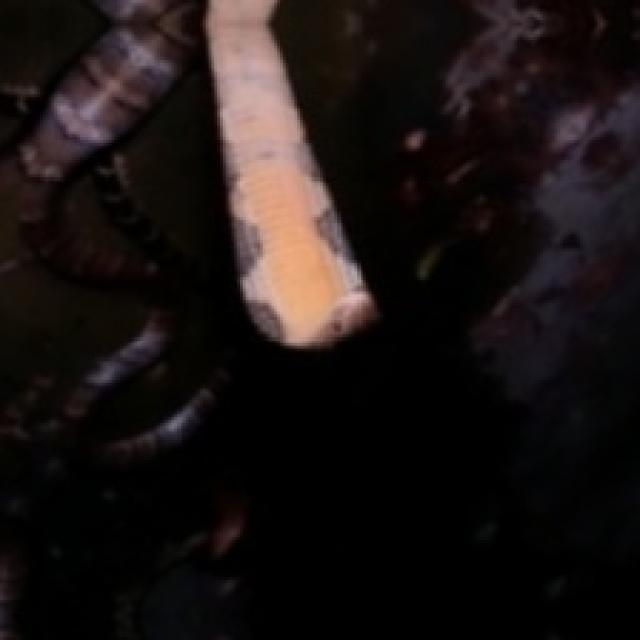king cobra: (0, 0, 224, 468), (205, 0, 378, 348), (0, 82, 41, 120)
